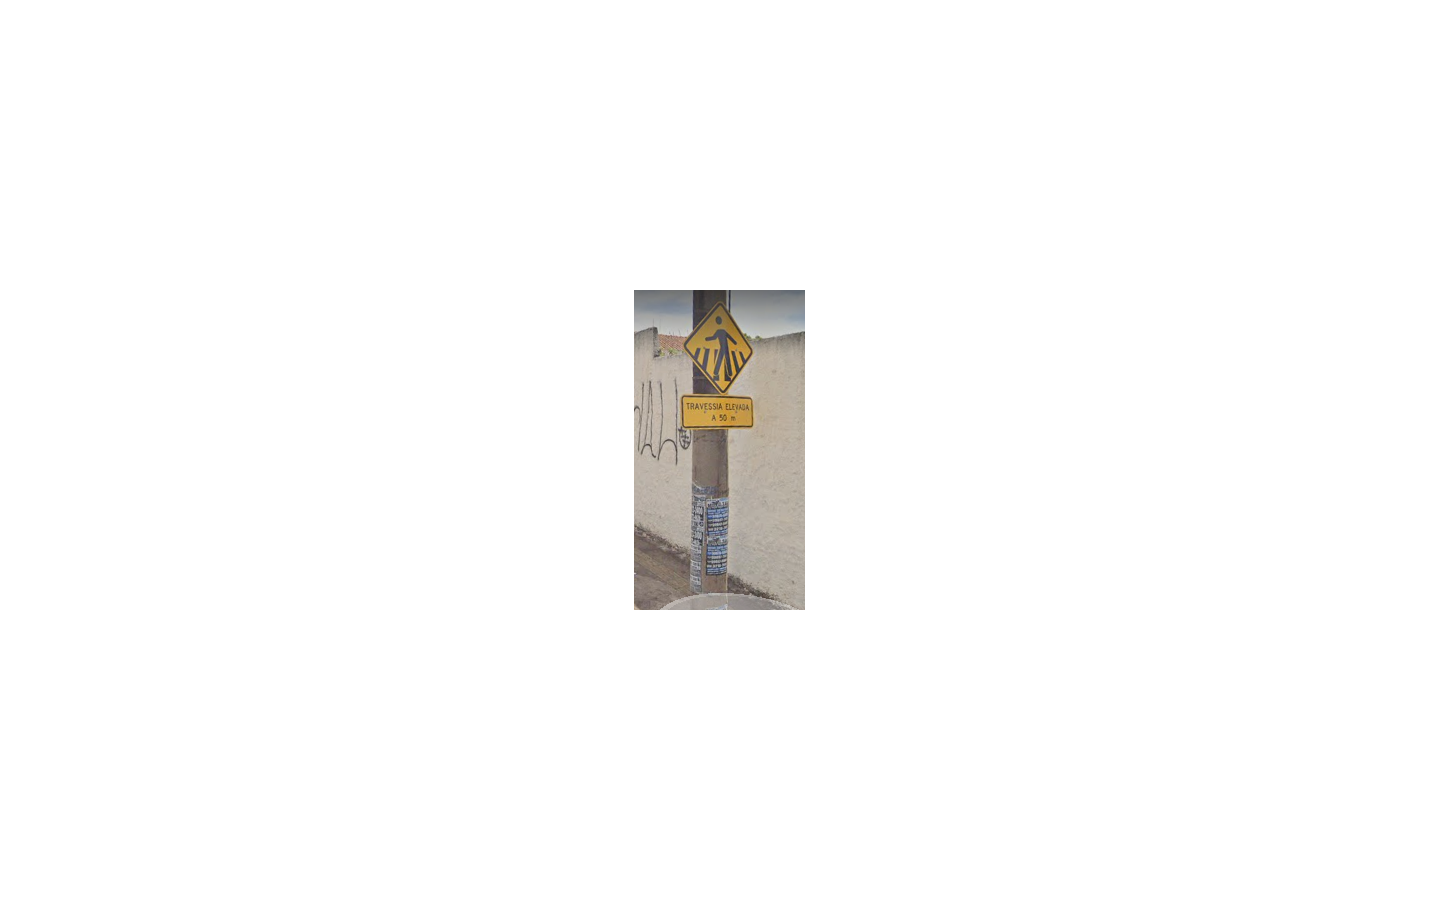t50m: (681, 300, 753, 428)
